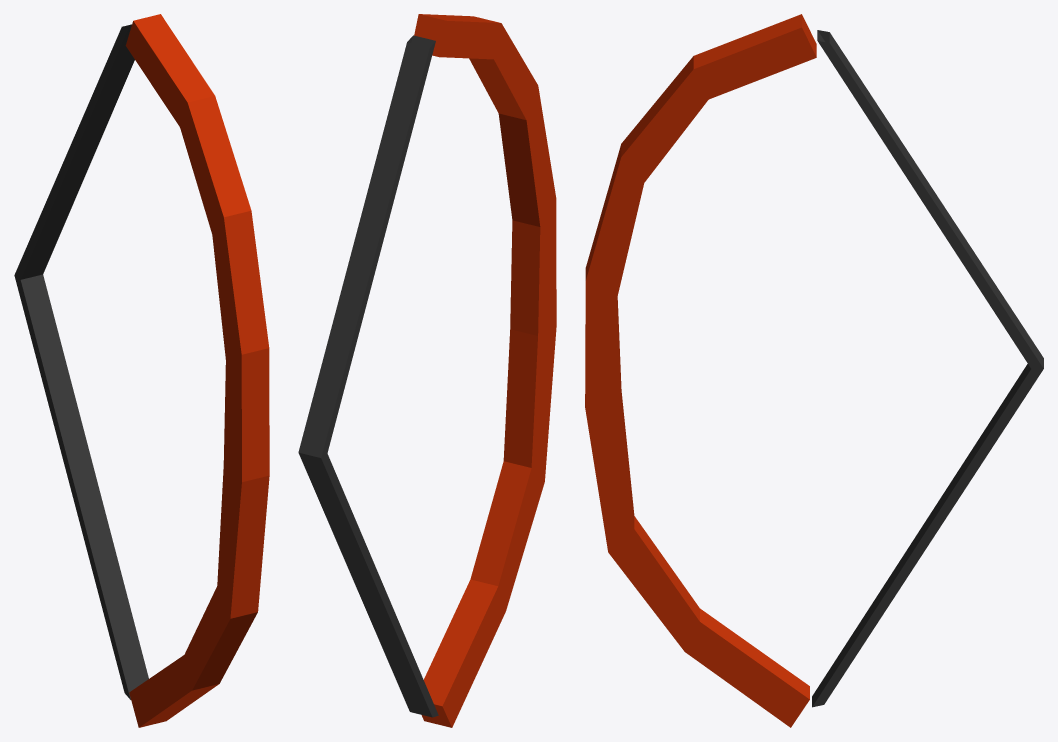
Rendered from bow_pull.obj.
The picture shows the model from 3 angles, left to right: view 1: azimuth 30°, elevation 25°; view 2: azimuth 150°, elevation 25°; view 3: azimuth 270°, elevation 25°; orthographic projection.
Parts seen in each view (by area): view 1: bow_pull; view 2: bow_pull; view 3: bow_pull.
Boxes of the visible parts, x1=… form: bow_pull: x1=14, y1=14, x2=269, y2=727; bow_pull: x1=298, y1=14, x2=556, y2=727; bow_pull: x1=585, y1=14, x2=1043, y2=727.
Size of the model in its own units: 0.0245 by 0.5971 by 0.3543.
